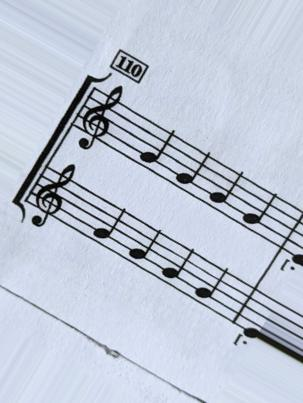G: (135, 108, 176, 188), (175, 130, 212, 214), (208, 154, 244, 230), (125, 212, 162, 283), (243, 175, 279, 246), (193, 254, 230, 320), (161, 234, 193, 301), (93, 192, 125, 258)
